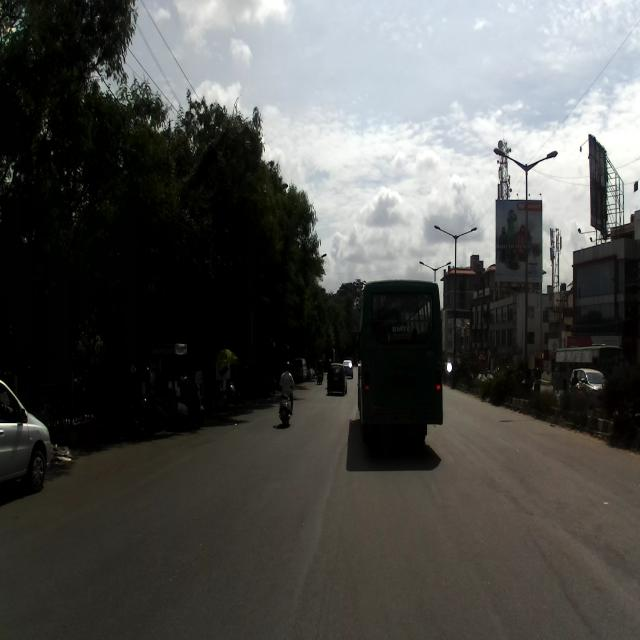bus: (354, 276, 445, 446)
scooter: (278, 387, 292, 427)
